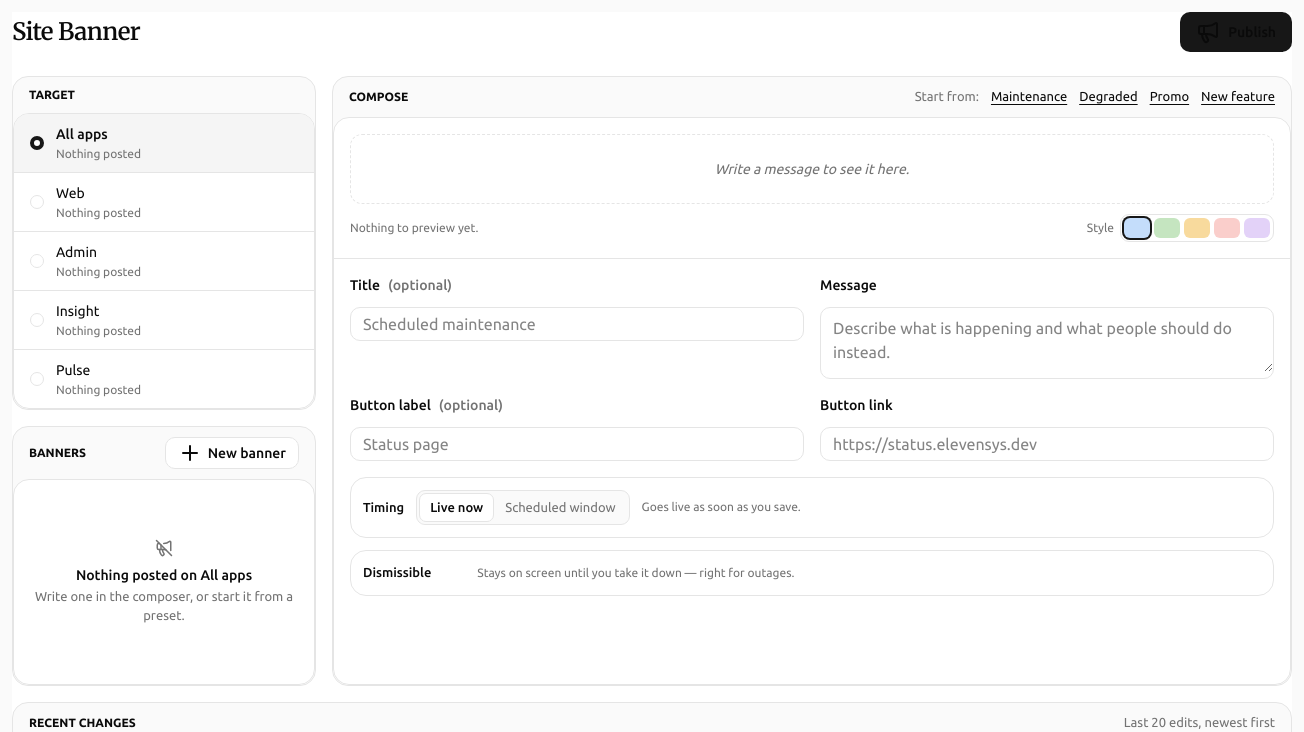
Test case: SiteBannerForm › refuses to save without a message
What coordinates should you click on to do the following:
click the button "Publish"
I would click on:
 (1236, 32)
Its box is [1180,12,1292,52].
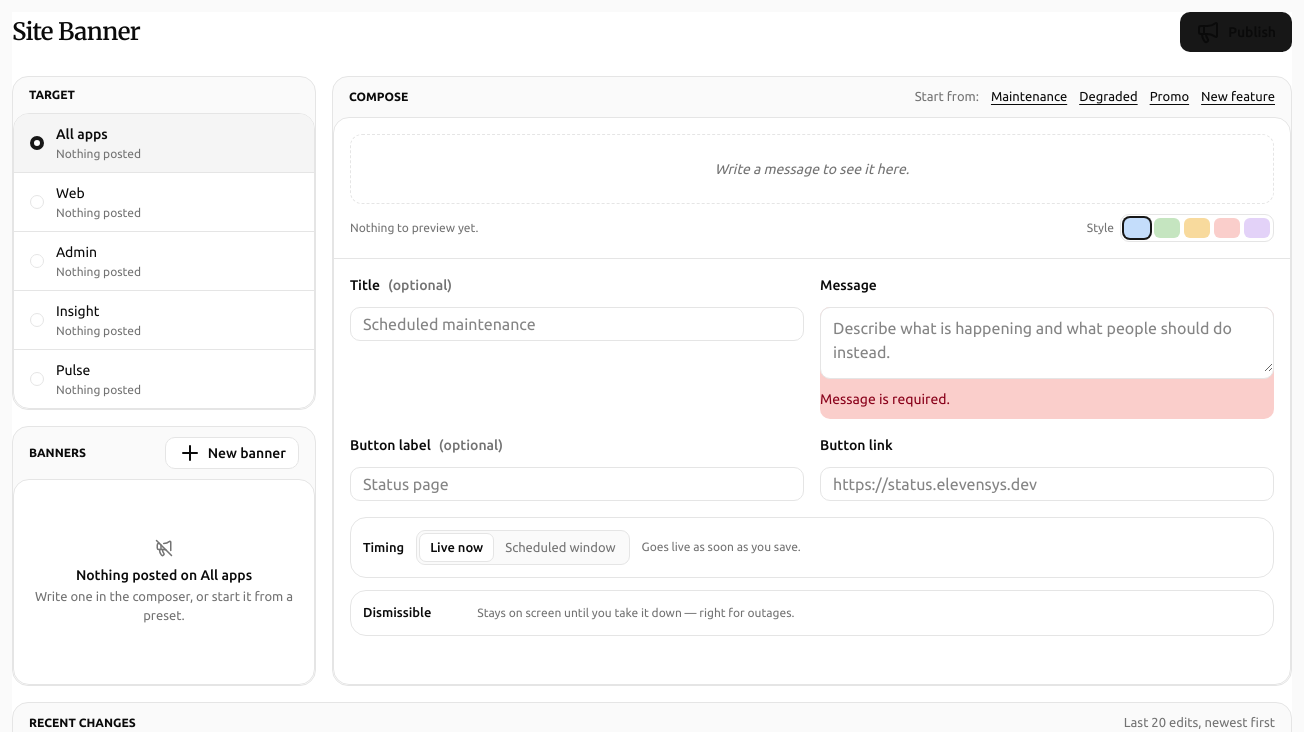
Expected: the text "Message is required." is shown, [820,388,950,408]
